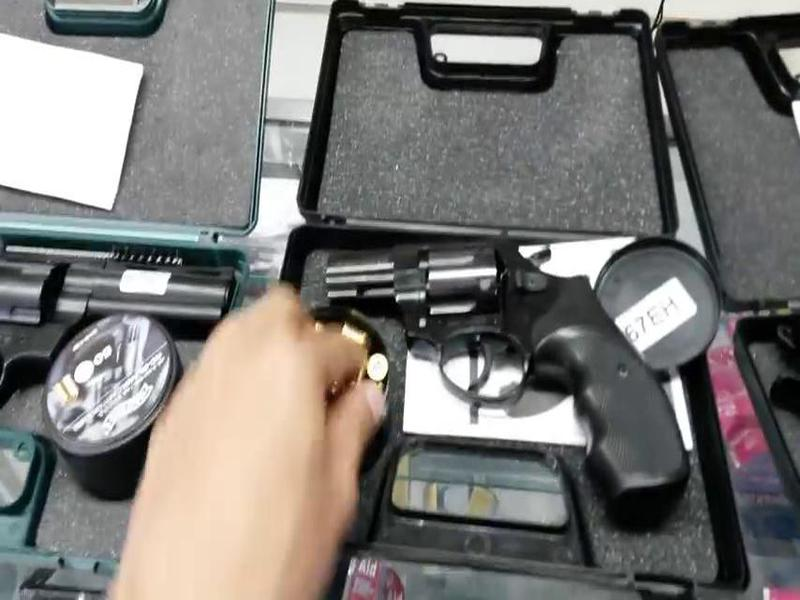Revolver: (326, 222, 702, 514)
